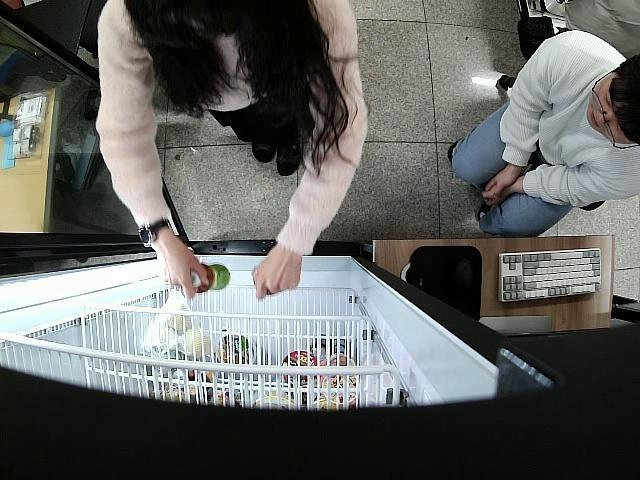19_17cha: (192, 262, 230, 296)
